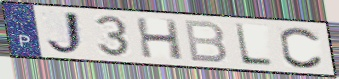3: (90, 14, 132, 59)
B: (182, 19, 230, 65)
C: (278, 25, 326, 70)
H: (133, 16, 185, 62)
J: (44, 10, 89, 57)
L: (233, 22, 276, 68)
